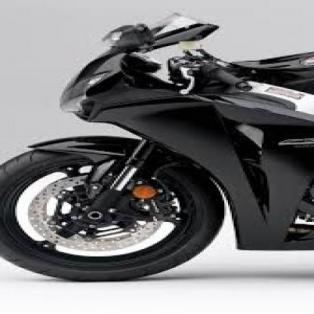Motocicleta: (1, 14, 314, 279)
